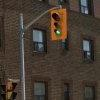Traffic light: (46, 1, 75, 46)
